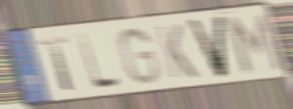G: (118, 26, 162, 86)
K: (154, 22, 201, 81)
L: (76, 31, 124, 91)
M: (222, 10, 287, 76)
T: (37, 35, 76, 94)
V: (184, 14, 229, 81)
